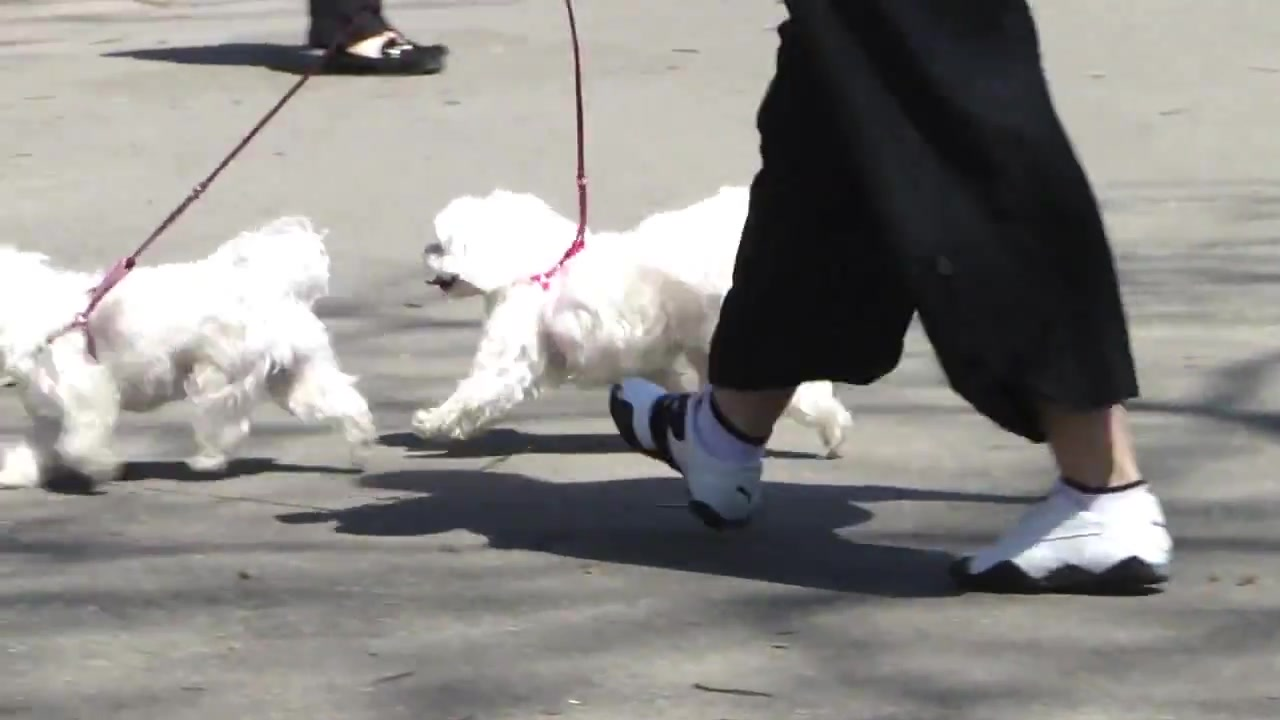dog: (1, 215, 374, 496)
